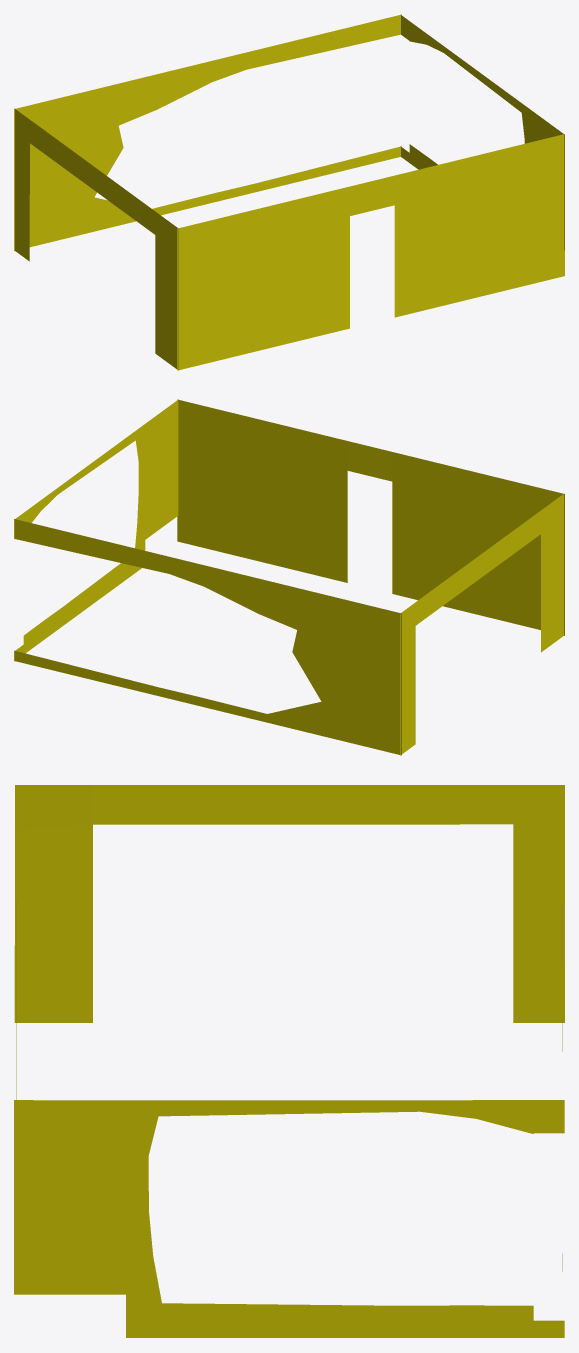
The model's file is BH03_WP_01_Break.fbx.
3 views of the same model, one above another, from view 1: azimuth 30°, elevation 25°; view 2: azimuth 150°, elevation 25°; view 3: azimuth 270°, elevation 25° (orthographic). The views are drawn at different scales.
Visible parts, largest first — view 1: BH03_WP_01_Break; view 2: BH03_WP_01_Break; view 3: BH03_WP_01_Break.
Boxes of the visible parts, box(x1,y1,x2,y2) form: BH03_WP_01_Break: box(14, 14, 564, 370); BH03_WP_01_Break: box(14, 399, 564, 755); BH03_WP_01_Break: box(14, 785, 564, 1337).
Bounding box in the file's own units: 1046 × 366 × 768.
